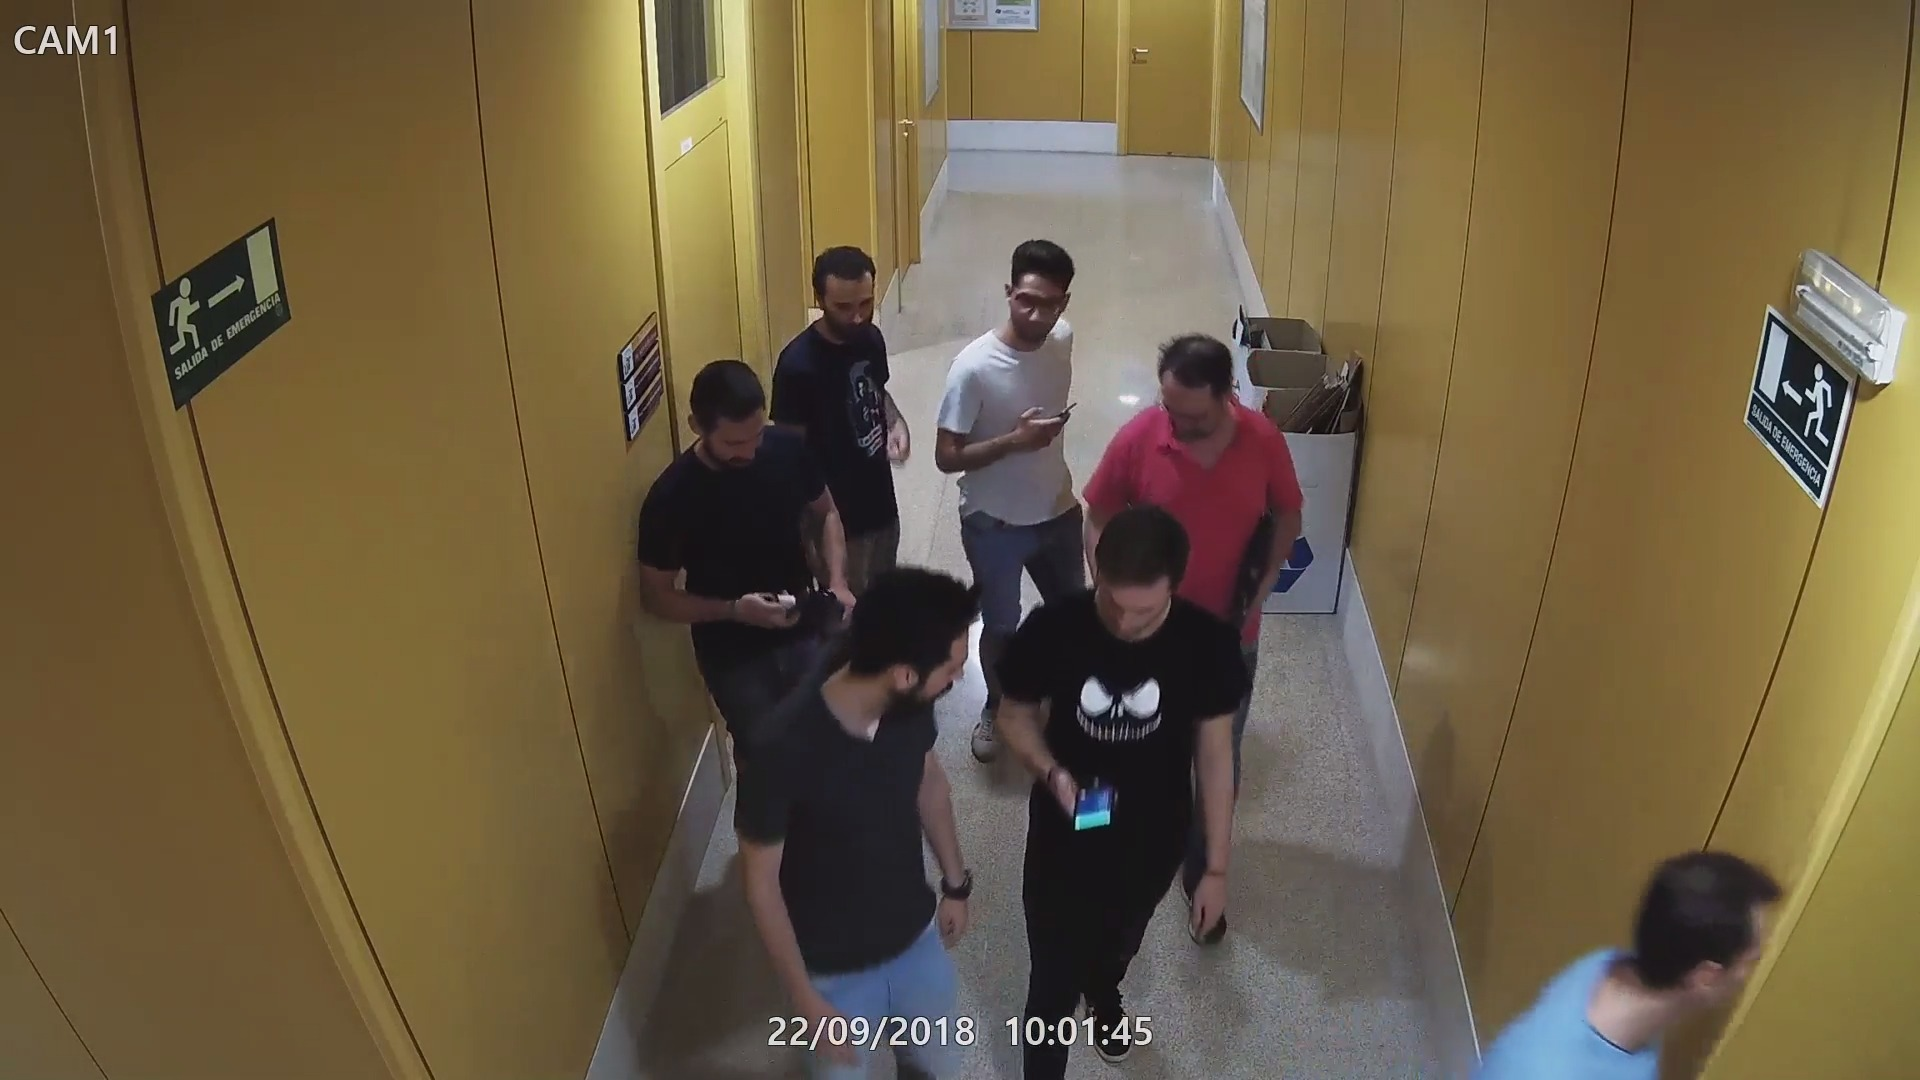Short_rifle: (1225, 497, 1284, 644), (744, 582, 843, 644)
